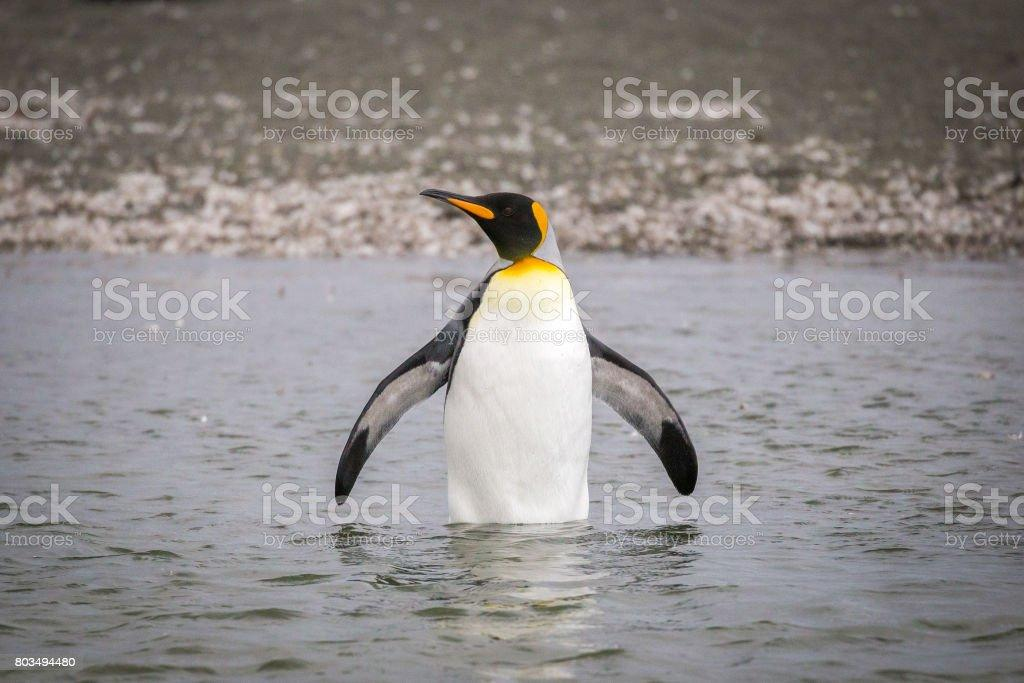king: (321, 160, 728, 549)
